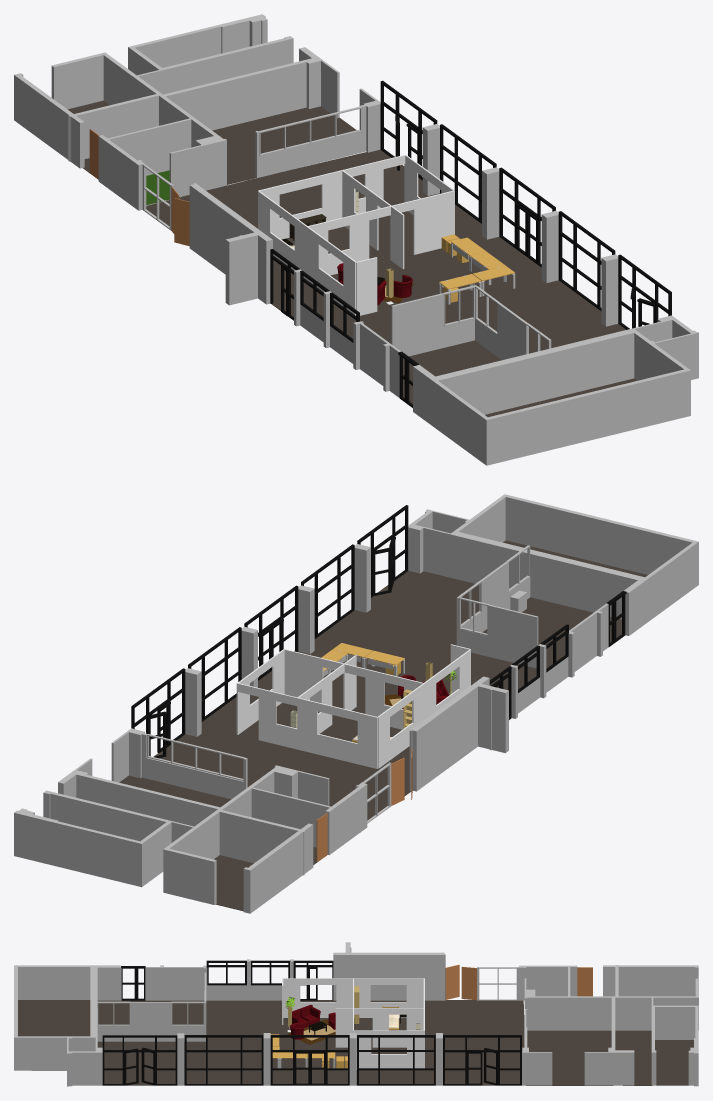
File: laas_adream.obj
3 renders of one model, top to bottom at view 1: azimuth 30°, elevation 25°; view 2: azimuth 150°, elevation 25°; view 3: azimuth 270°, elevation 25°, orthographic. The views are drawn at different scales.
Parts seen in each view (by area): view 1: walls.002_Cube.117, walls.010_Cube.125, Floor_h020_Plane.002, glass_wall_h20_1_Cube.018, walls.004_Cube.119, Floor_h022_Plane.005, walls.011_Cube.126, walls.001_Cube.116, walls.000_Cube.001, Floor_h021_Plane.001, walls.005_Cube.002, walls.007_Cube.122 (+13 smaller); view 2: walls.002_Cube.117, walls.010_Cube.125, Floor_h020_Plane.002, walls.004_Cube.119, glass_wall_h20_1_Cube.018, walls.001_Cube.116, walls.011_Cube.126, walls.000_Cube.001, Floor_h021_Plane.001, walls.005_Cube.002, Floor_h002_Plane.010, Floor_h022_Plane.005 (+14 smaller); view 3: Floor_h020_Plane.002, walls.002_Cube.117, walls.010_Cube.125, glass_wall_h20_1_Cube.018, walls.004_Cube.119, walls.011_Cube.126, Floor_h022_Plane.005, Floor_h006_Plane, walls.005_Cube.002, Floor_h021_Plane.001, Floor_h003_Plane.006, Floor_h004_Plane.009 (+34 smaller).
Boxes of the visible parts, x1,y1,x2,y2 form: walls.002_Cube.117: (14, 14, 339, 210); walls.010_Cube.125: (413, 315, 698, 465); Floor_h020_Plane.002: (146, 149, 626, 353); glass_wall_h20_1_Cube.018: (380, 80, 671, 329); walls.004_Cube.119: (189, 183, 272, 305); Floor_h022_Plane.005: (212, 106, 356, 184); walls.011_Cube.126: (294, 269, 400, 397); walls.001_Cube.116: (255, 88, 380, 177); walls.000_Cube.001: (391, 285, 476, 356); Floor_h021_Plane.001: (403, 340, 501, 403); walls.005_Cube.002: (475, 303, 527, 360); walls.007_Cube.122: (482, 167, 499, 239); walls.002_Cube.117: (14, 758, 367, 913); walls.010_Cube.125: (408, 494, 698, 635); Floor_h020_Plane.002: (153, 571, 536, 820); walls.004_Cube.119: (409, 676, 508, 791); glass_wall_h20_1_Cube.018: (131, 505, 408, 745); walls.001_Cube.116: (111, 728, 247, 799); walls.011_Cube.126: (510, 603, 608, 718); walls.000_Cube.001: (456, 597, 538, 668); Floor_h021_Plane.001: (482, 597, 621, 668); walls.005_Cube.002: (461, 561, 530, 632); Floor_h002_Plane.010: (214, 855, 253, 911); Floor_h022_Plane.005: (119, 775, 230, 807); Floor_h020_Plane.002: (97, 1000, 524, 1085); walls.002_Cube.117: (517, 965, 698, 1086); walls.010_Cube.125: (14, 965, 121, 1086); glass_wall_h20_1_Cube.018: (102, 1035, 521, 1085); walls.004_Cube.119: (333, 942, 445, 1000); walls.011_Cube.126: (146, 959, 293, 1000); Floor_h022_Plane.005: (526, 1030, 612, 1085); Floor_h006_Plane: (18, 1000, 90, 1036); walls.005_Cube.002: (97, 1002, 204, 1041); Floor_h021_Plane.001: (97, 1000, 204, 1024); Floor_h003_Plane.006: (655, 1040, 693, 1085); Floor_h004_Plane.009: (615, 1030, 652, 1085).
Bounding box in the file's own units: 13.45 × 3.2 × 39.63.
